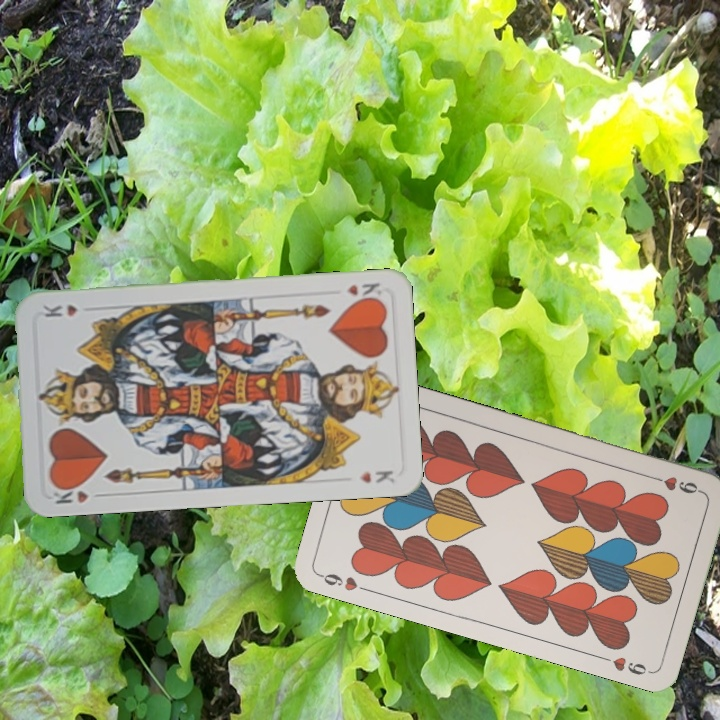H9: (316, 569, 374, 595), (647, 472, 705, 497)
HK: (48, 479, 107, 507), (343, 279, 384, 304)
